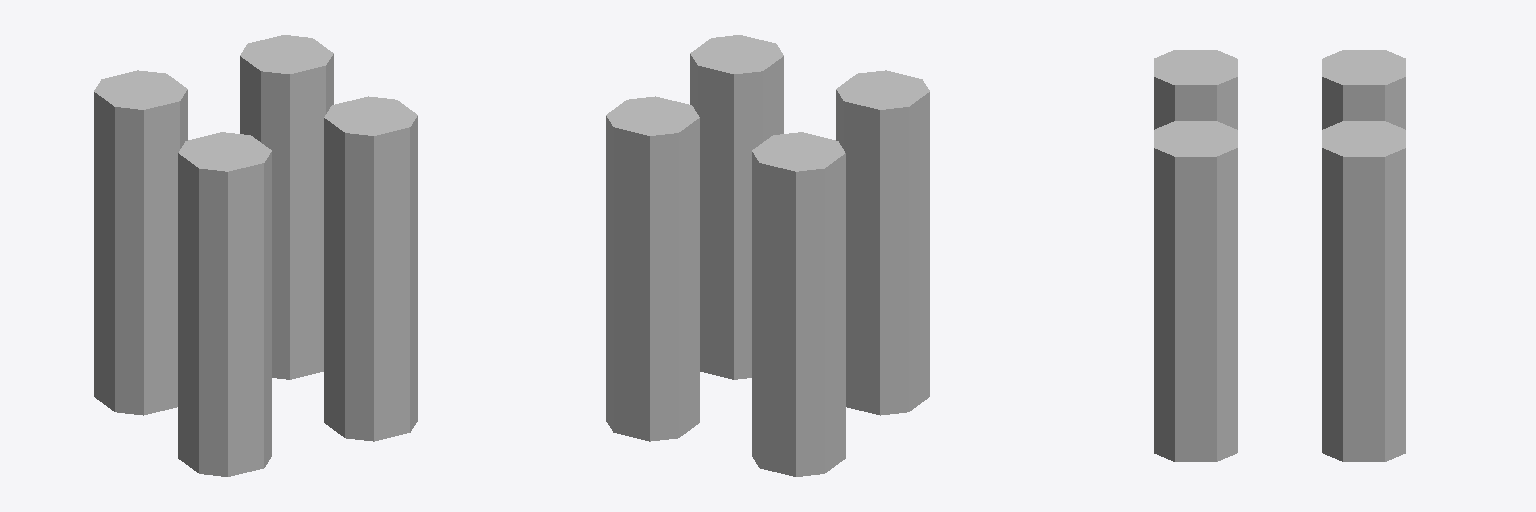
The model's file is rods.obj.
3 renders of one model, left to right at view 1: azimuth 30°, elevation 25°; view 2: azimuth 150°, elevation 25°; view 3: azimuth 270°, elevation 25°, orthographic.
Visible parts, largest first — view 1: Rods; view 2: Rods; view 3: Rods.
Boxes of the visible parts, x1=… form: Rods: x1=94, y1=35, x2=417, y2=476; Rods: x1=606, y1=35, x2=929, y2=476; Rods: x1=1154, y1=50, x2=1405, y2=461.
Bounding box in the file's own units: 0.75 × 1 × 0.75.